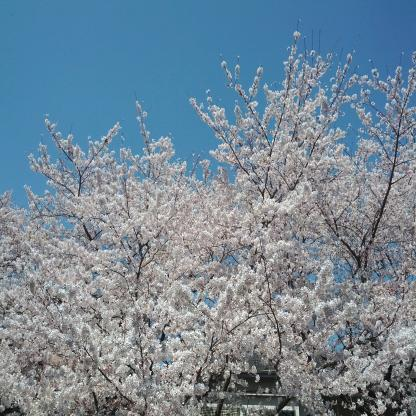Someiyoshino: (2, 34, 413, 413)
